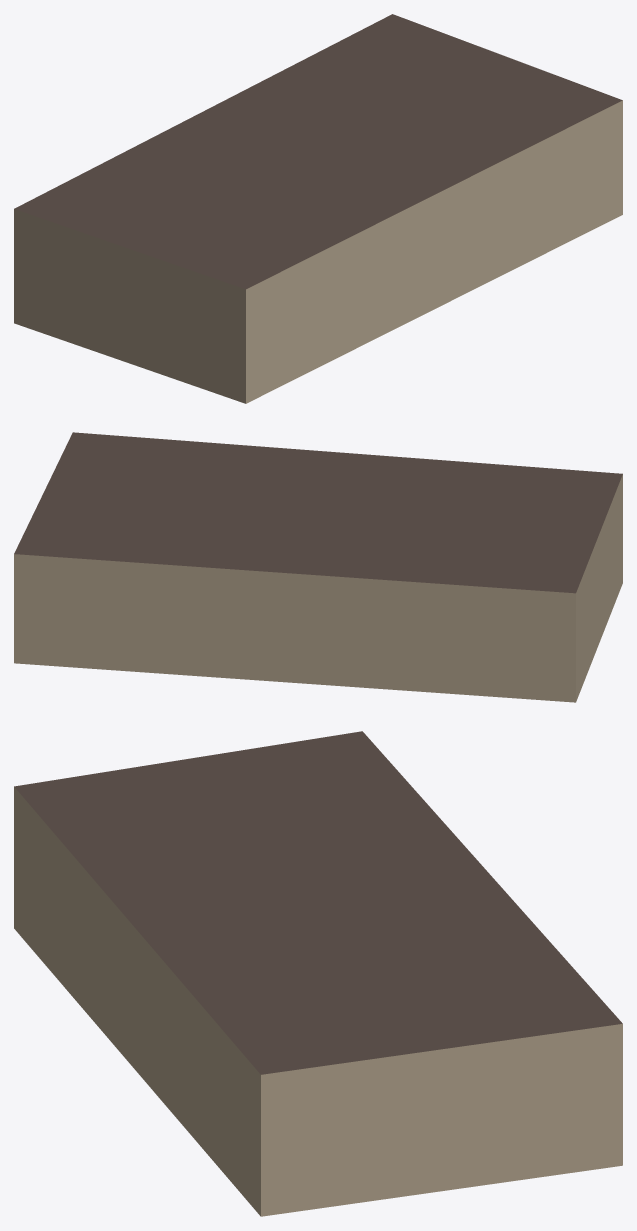
3 renders of one model, top to bottom at view 1: azimuth 30°, elevation 25°; view 2: azimuth 150°, elevation 25°; view 3: azimuth 270°, elevation 25°, orthographic. The views are drawn at different scales.
Visible parts, largest first — view 1: HP-w1512800290; view 2: HP-w1512800290; view 3: HP-w1512800290.
Boxes of the visible parts, box(x1,y1,x2,y2) form: HP-w1512800290: box(14, 14, 622, 403); HP-w1512800290: box(14, 432, 622, 702); HP-w1512800290: box(14, 731, 622, 1216).
Bounding box in the file's own units: 46.74 × 9 × 35.
